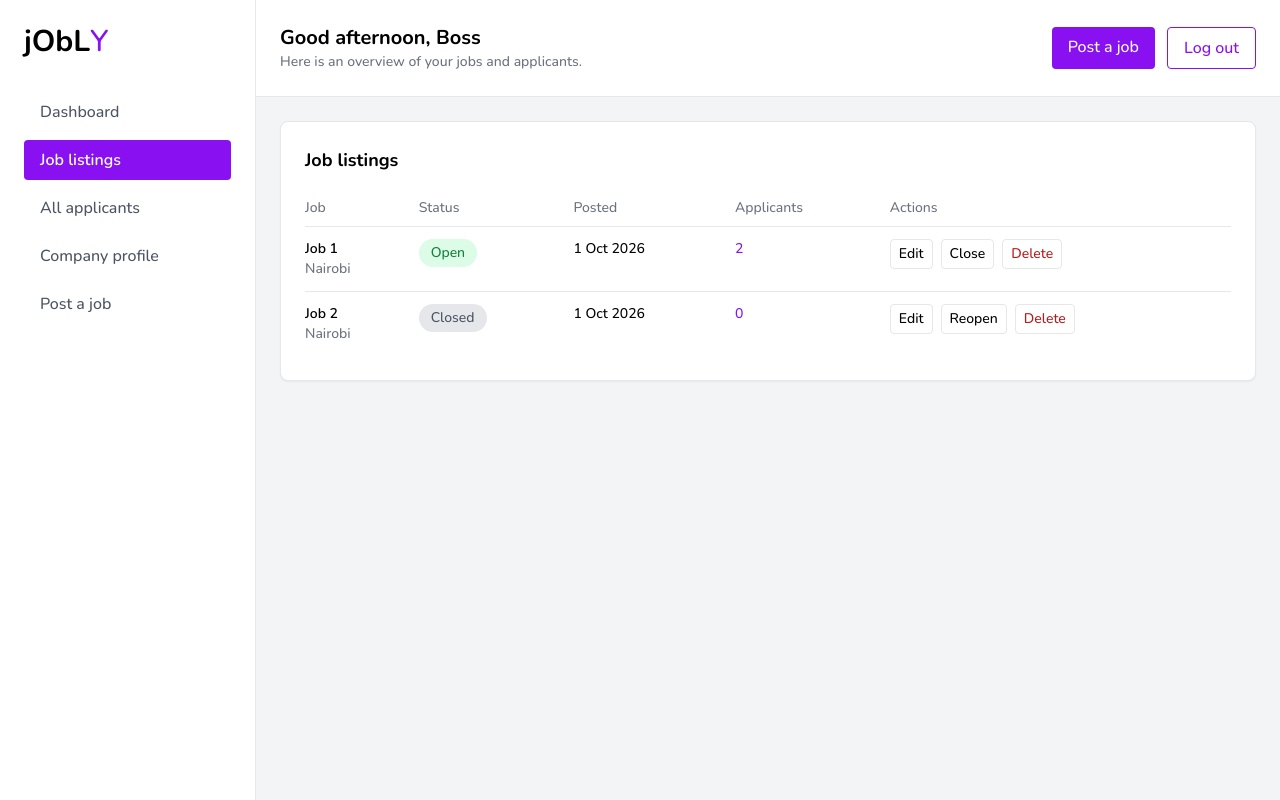
it: employer: job listings › shows the server error when an action fails
This screenshot has width=1280, height=800.
Click the button "Close" at (967, 254), box top-left (940, 239), bottom-right (994, 269)
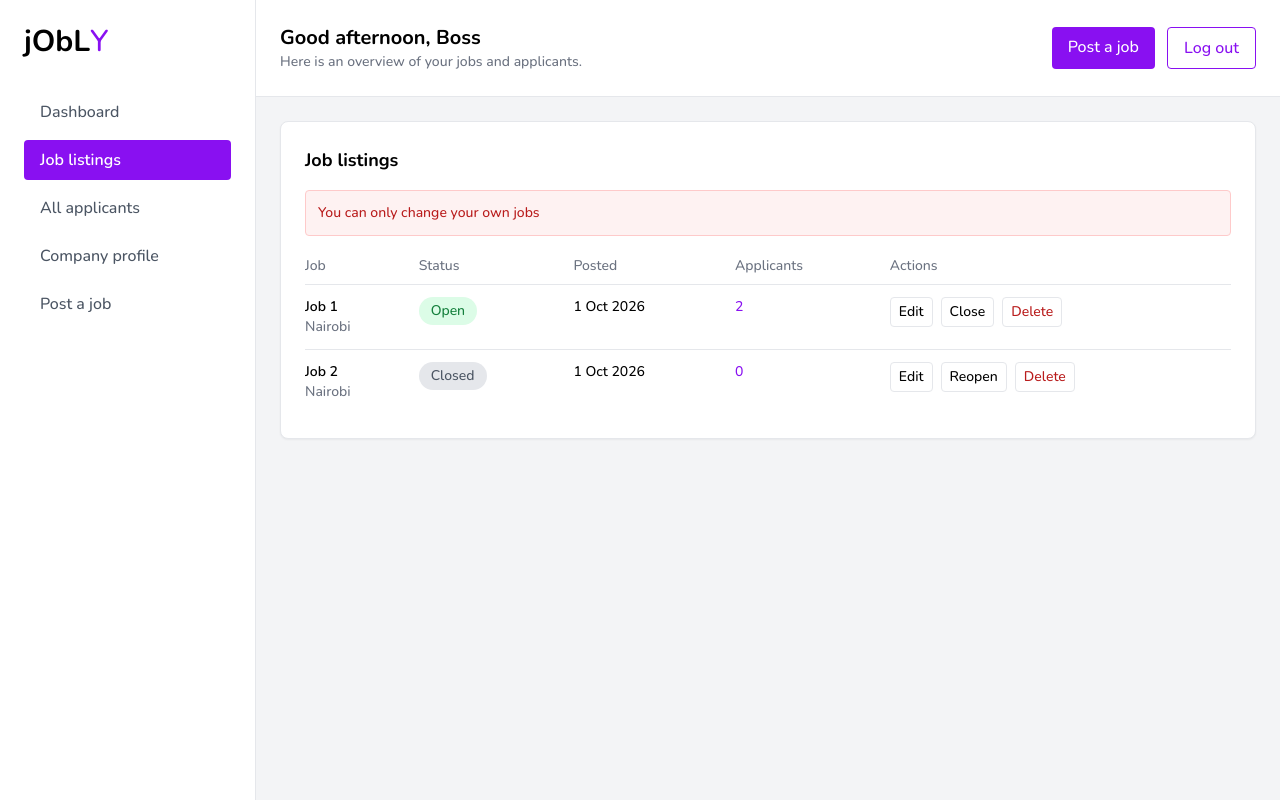
Now the message shows "only change your own", box top-left (318, 203), bottom-right (540, 222)
